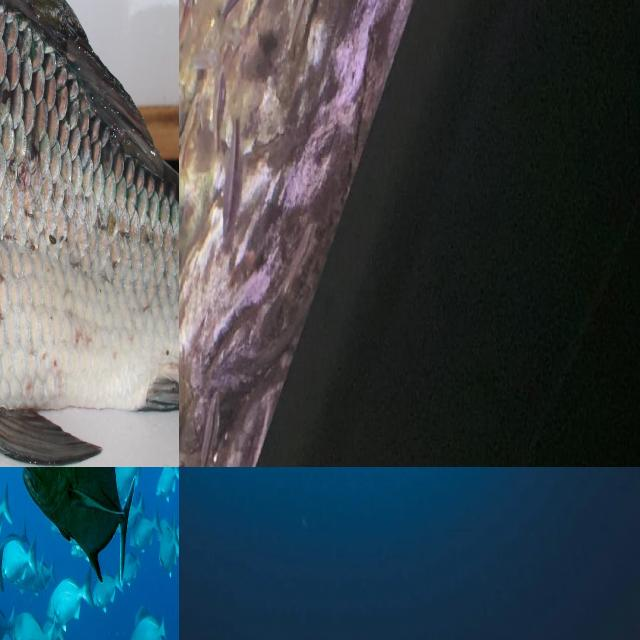fish: (0, 0, 179, 467), (179, 467, 497, 640)
